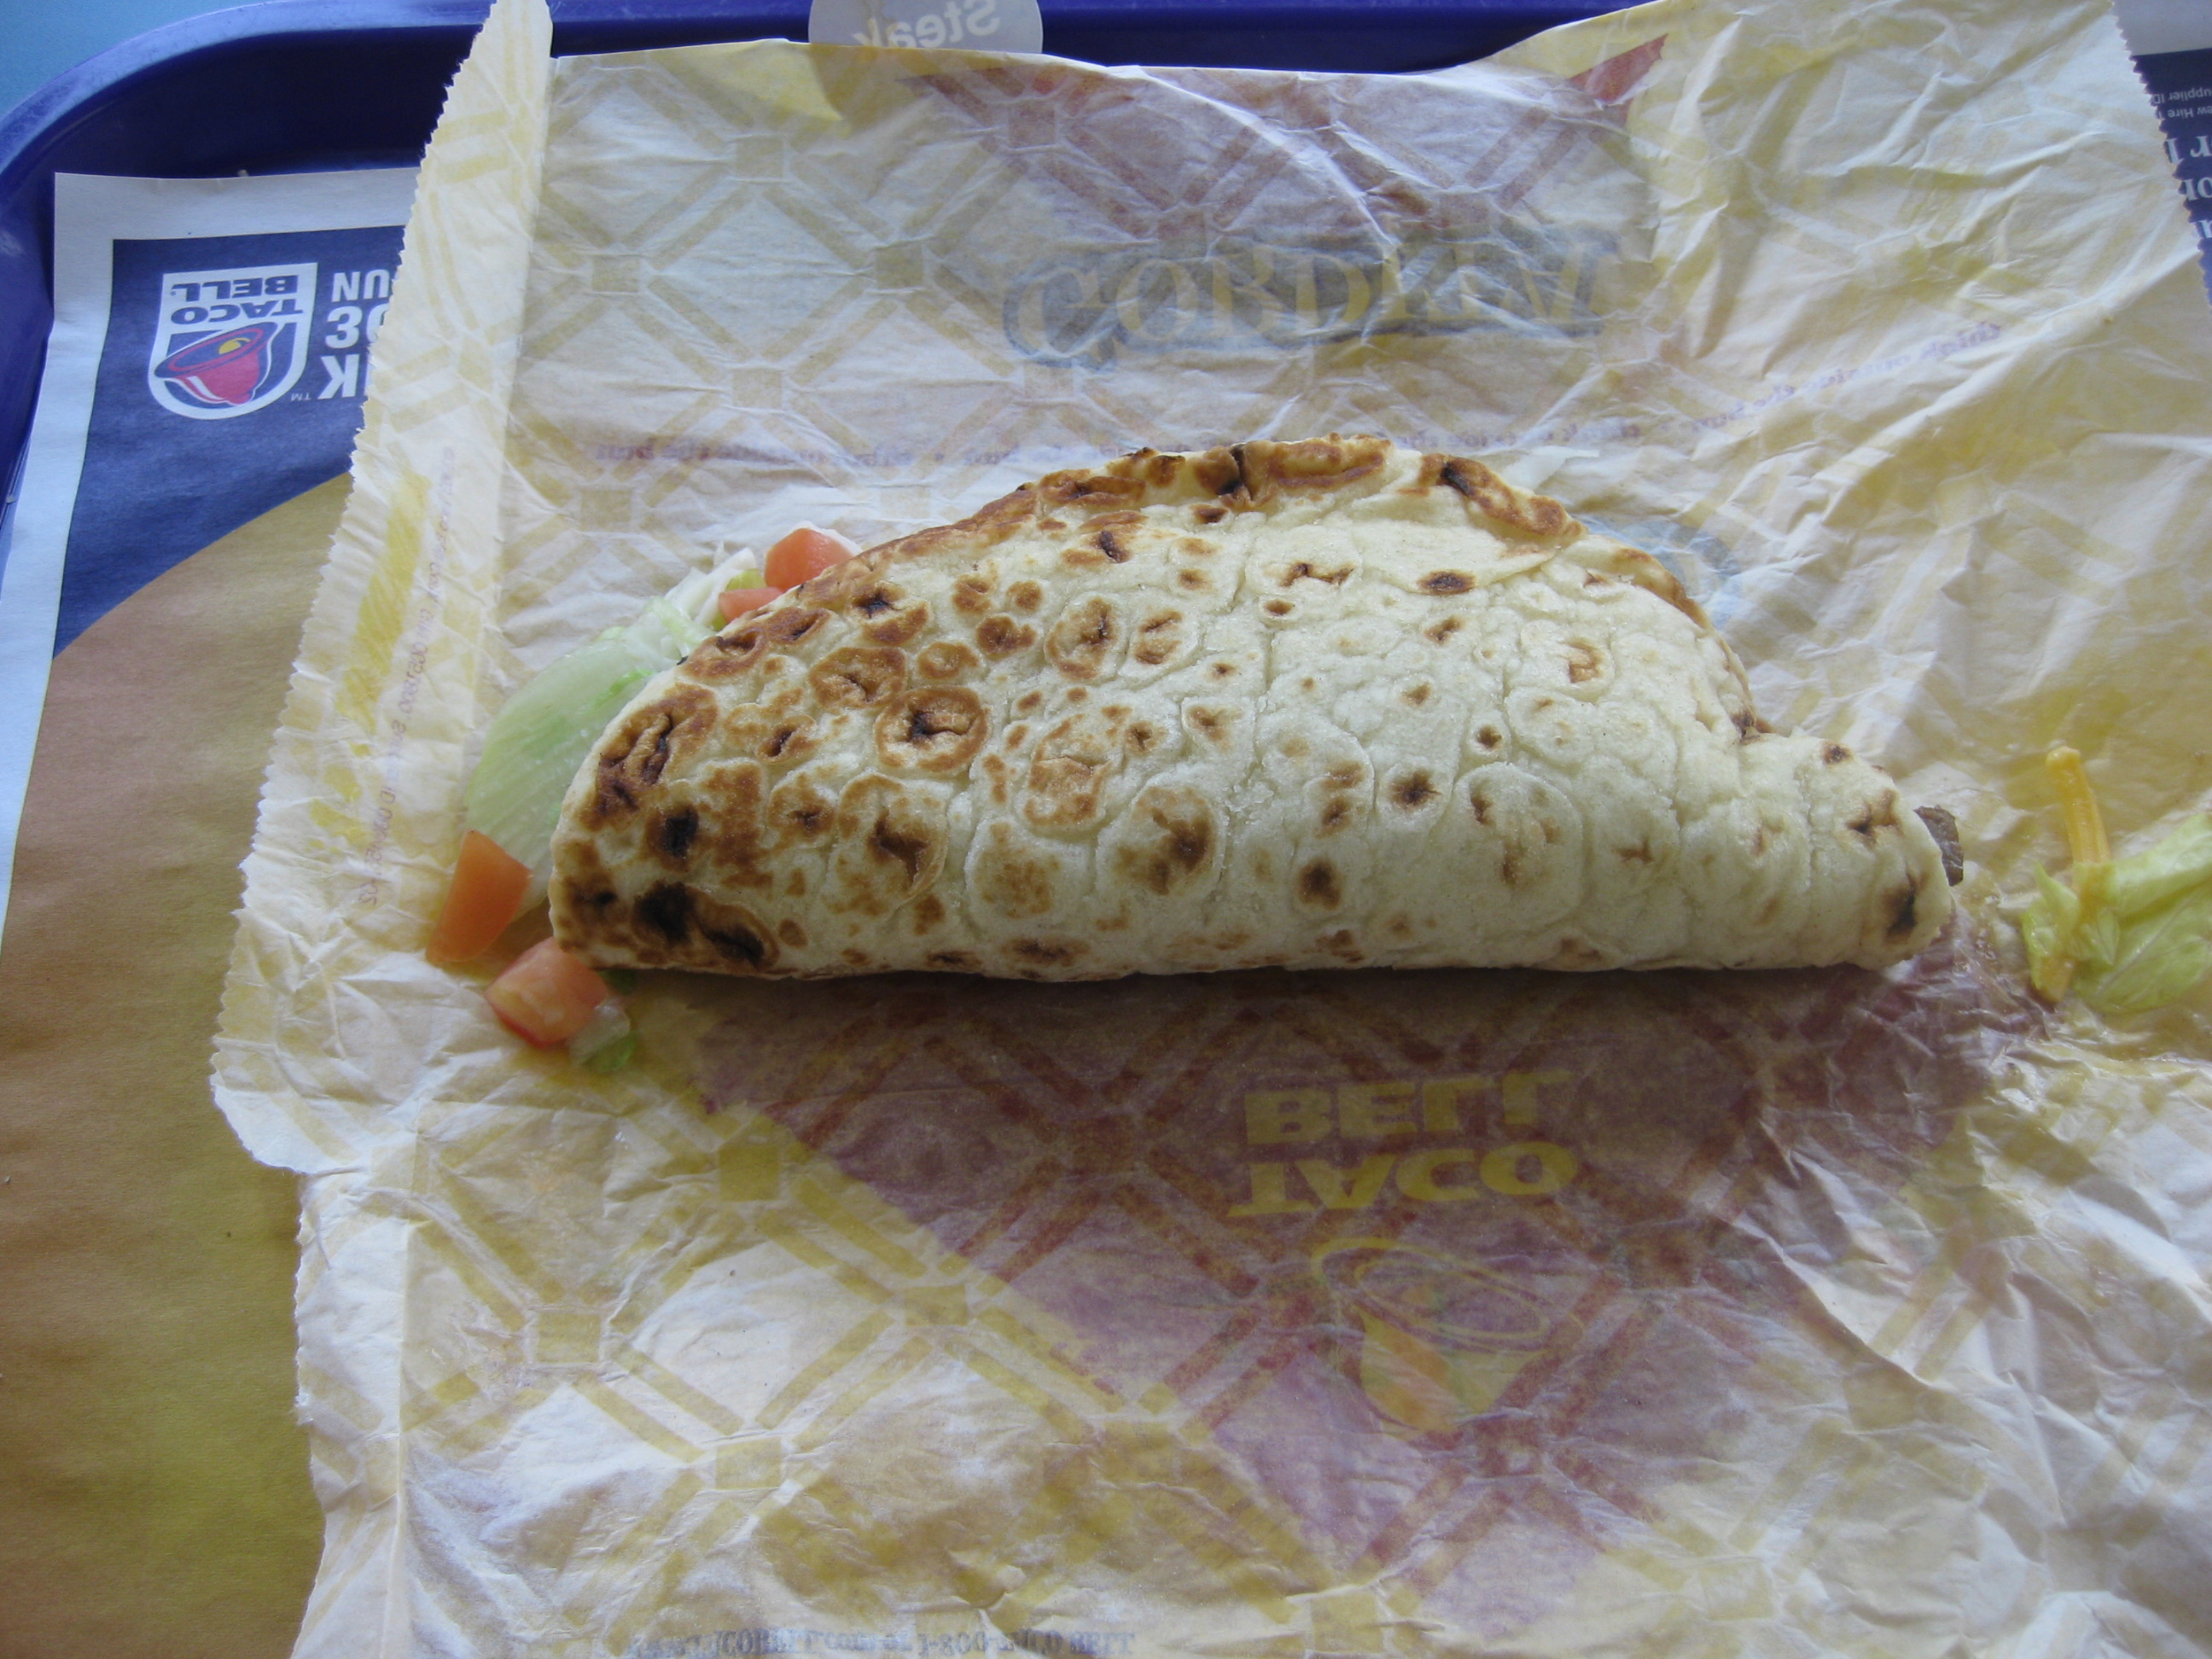taco: (441, 396, 2039, 1143)
